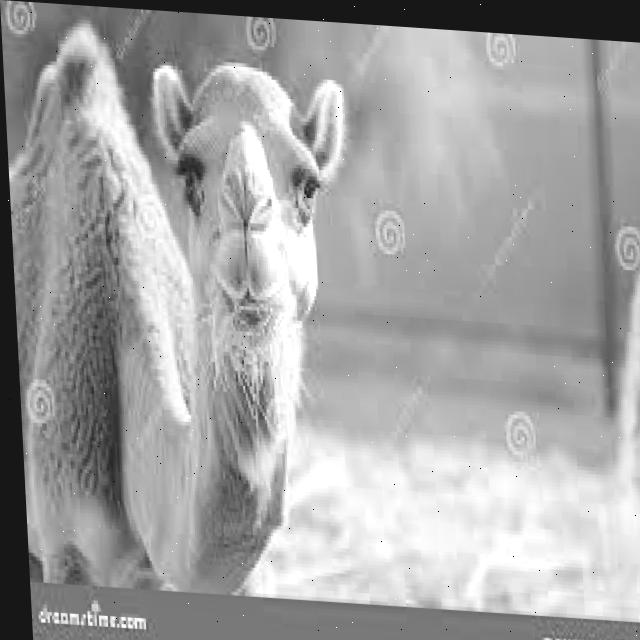Camel: (1, 15, 370, 601)
